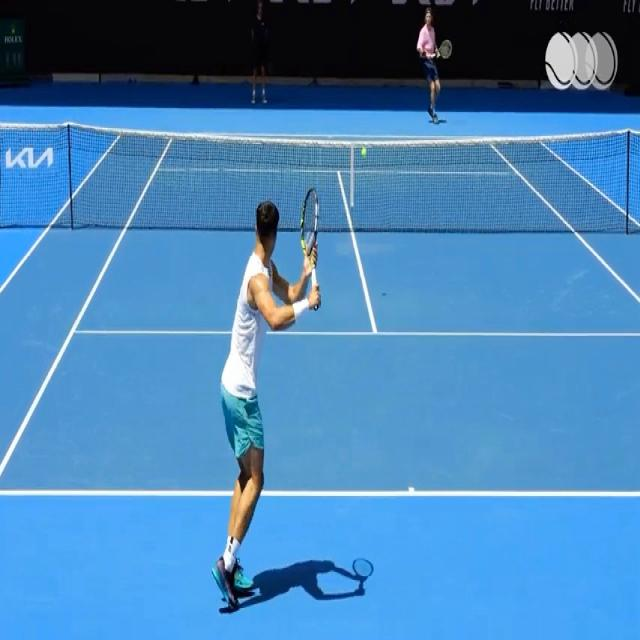forehand-ready: (214, 189, 322, 589)
